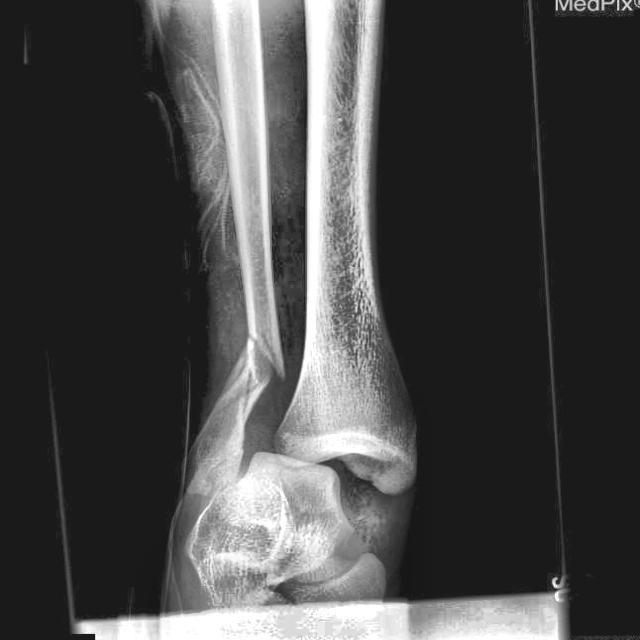fracture: (208, 332, 284, 418)
